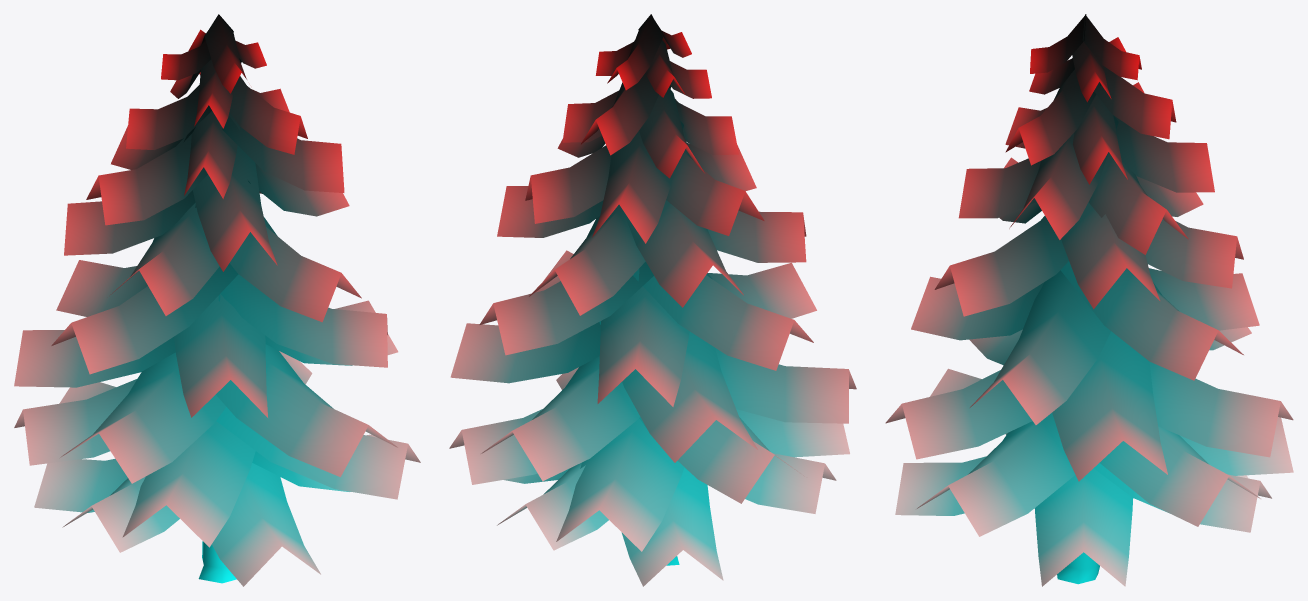
Rendered from PineTree02.fbx.
3 views of the same model, side by side, from view 1: azimuth 30°, elevation 25°; view 2: azimuth 150°, elevation 25°; view 3: azimuth 270°, elevation 25° (orthographic). The views are drawn at different scales.
Parts seen in each view (by area): view 1: PineTree02_LOD0; view 2: PineTree02_LOD0; view 3: PineTree02_LOD0.
Part boxes in pixels (x1,y1,x2,y2): PineTree02_LOD0: (14,14,420,586); PineTree02_LOD0: (449,14,856,586); PineTree02_LOD0: (885,14,1293,586).
Size of the model in its own units: 552 by 822 by 543.
